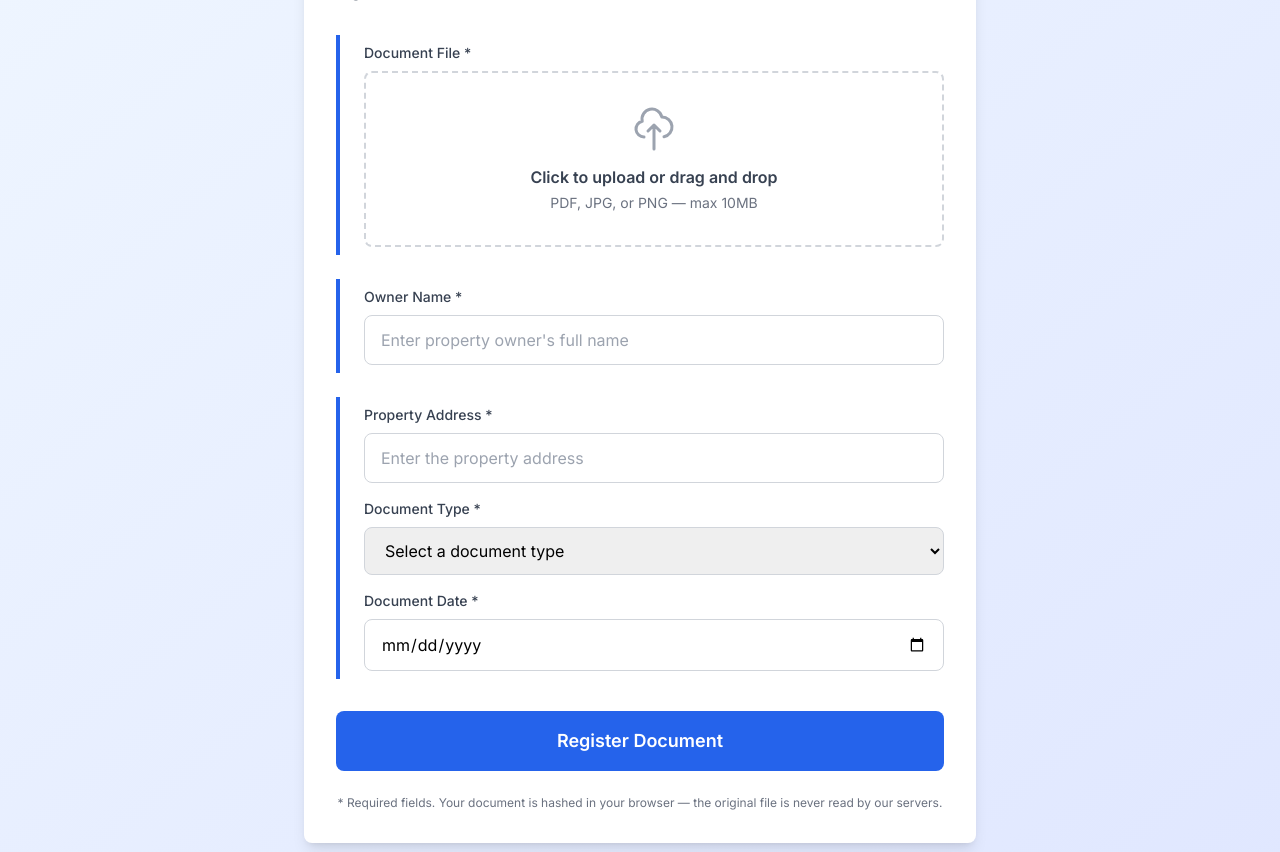
Test: UploadPage › Form Validation › should prevent submission with empty required fields
(page scrolled)
Click the button "Register Document".
click(640, 741)  # box top-left (336, 711), bottom-right (944, 771)
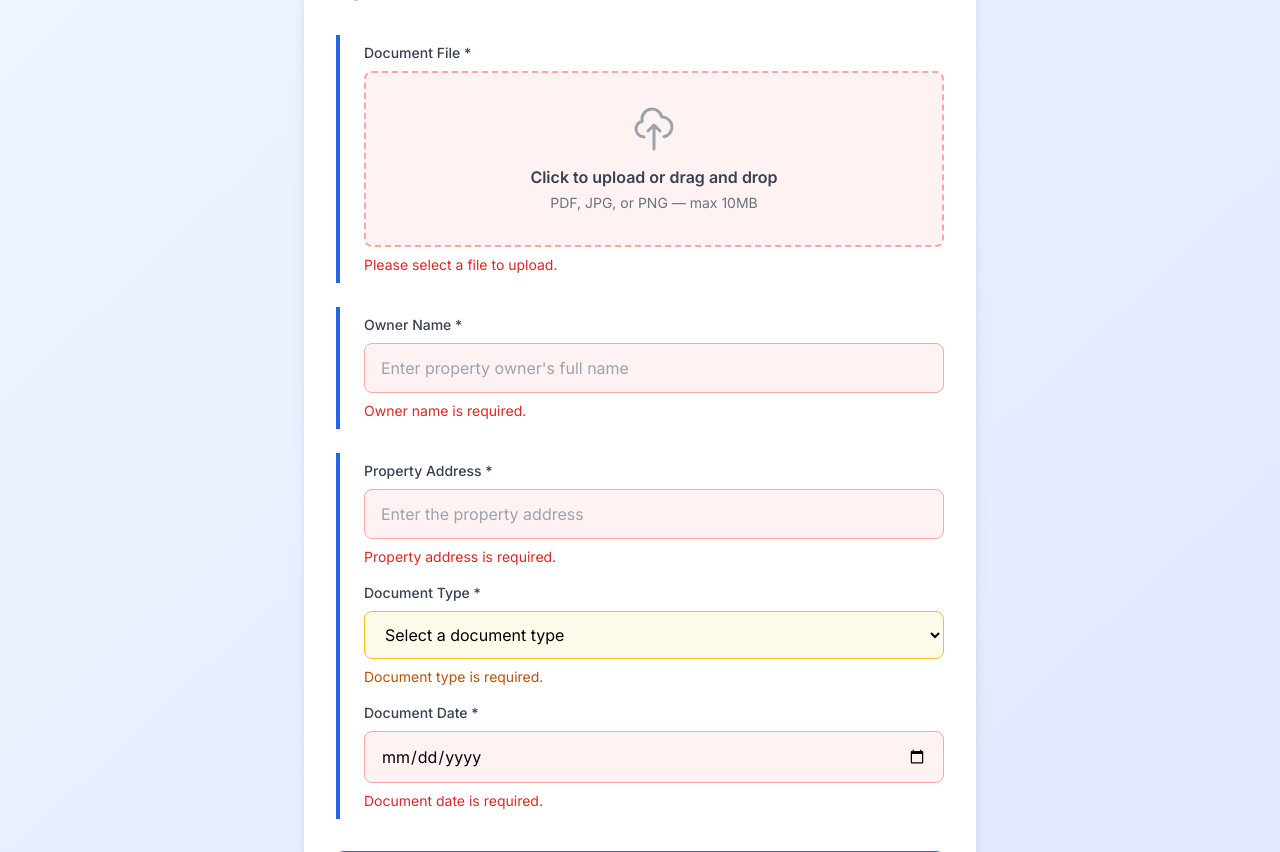
Expected: the text "Please select a file to upload." is shown, top-left (364, 256), bottom-right (558, 273)
Expected: the text "Owner name is required." is shown, top-left (364, 402), bottom-right (526, 419)
Expected: the text "Property address is required." is shown, top-left (364, 548), bottom-right (556, 565)
